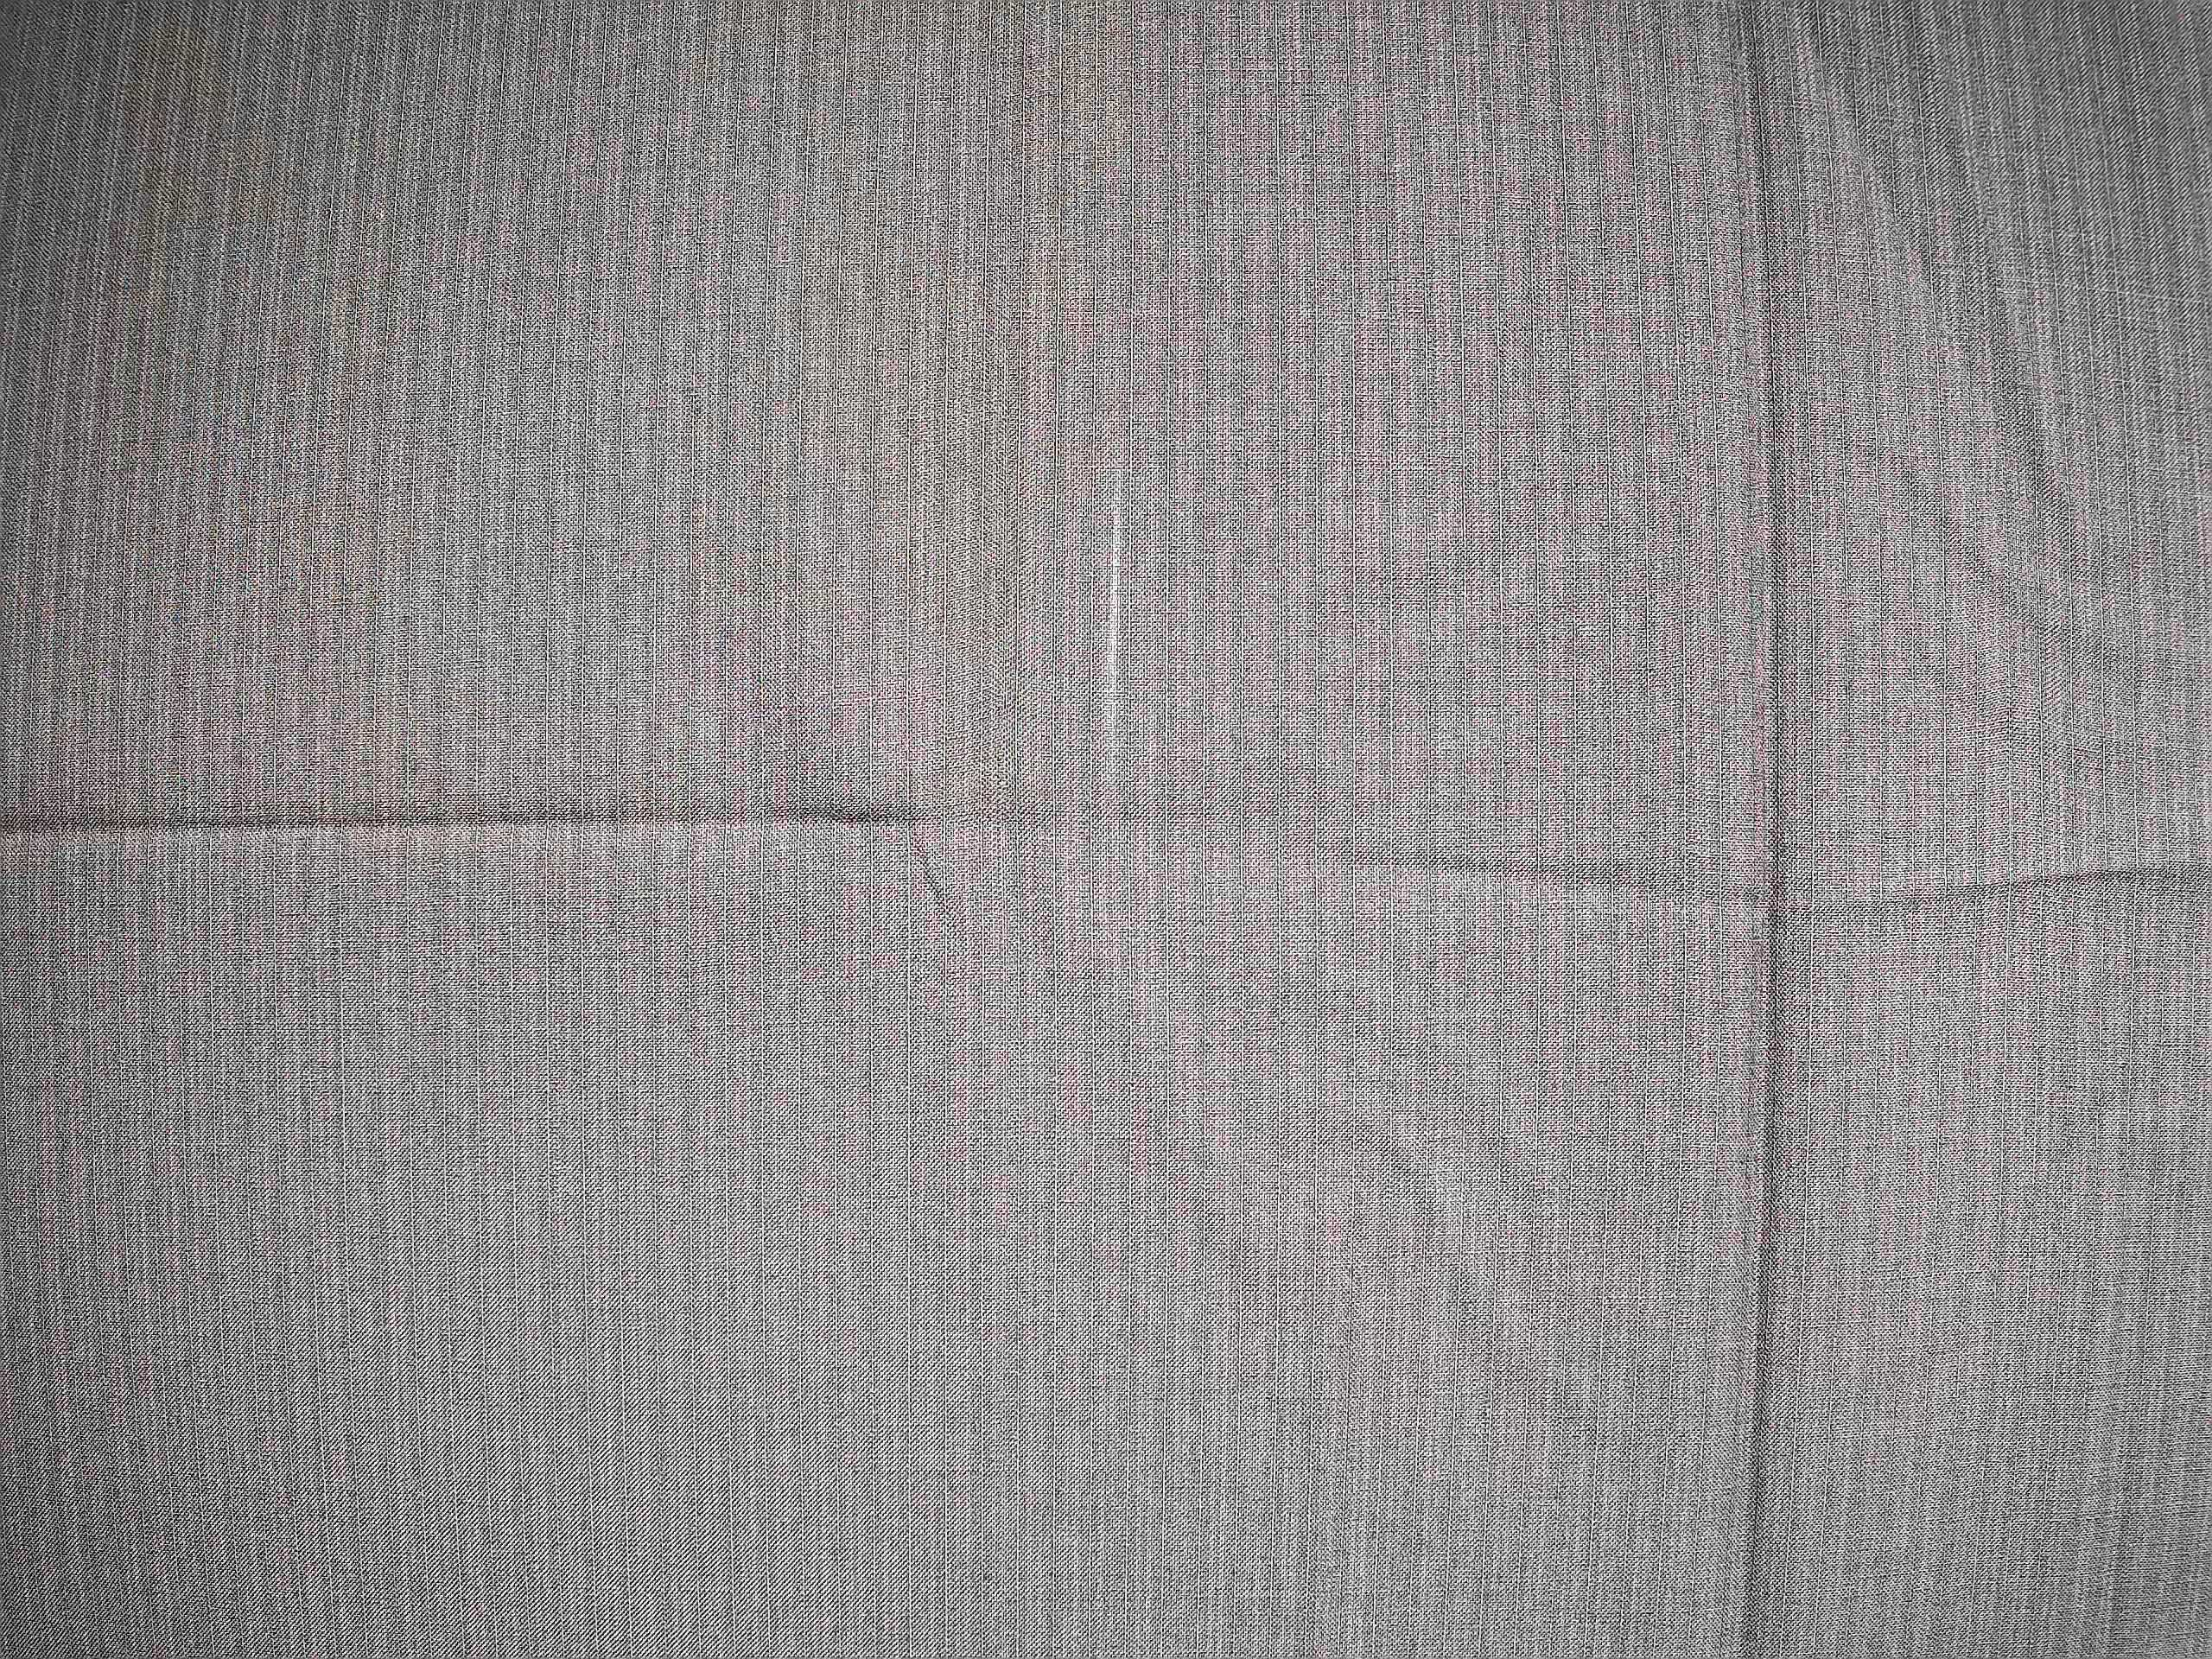hanging-warp: (1738, 12, 1792, 1643)
